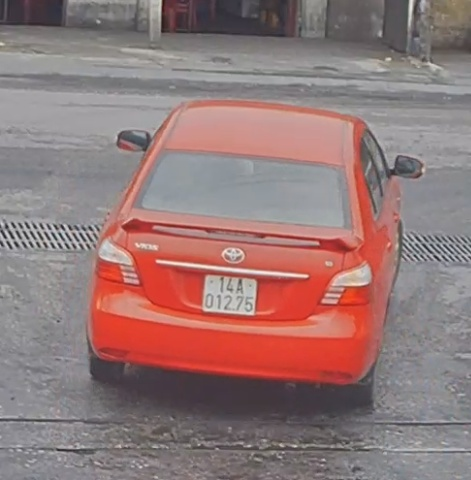vehicle plate: (199, 270, 261, 321)
